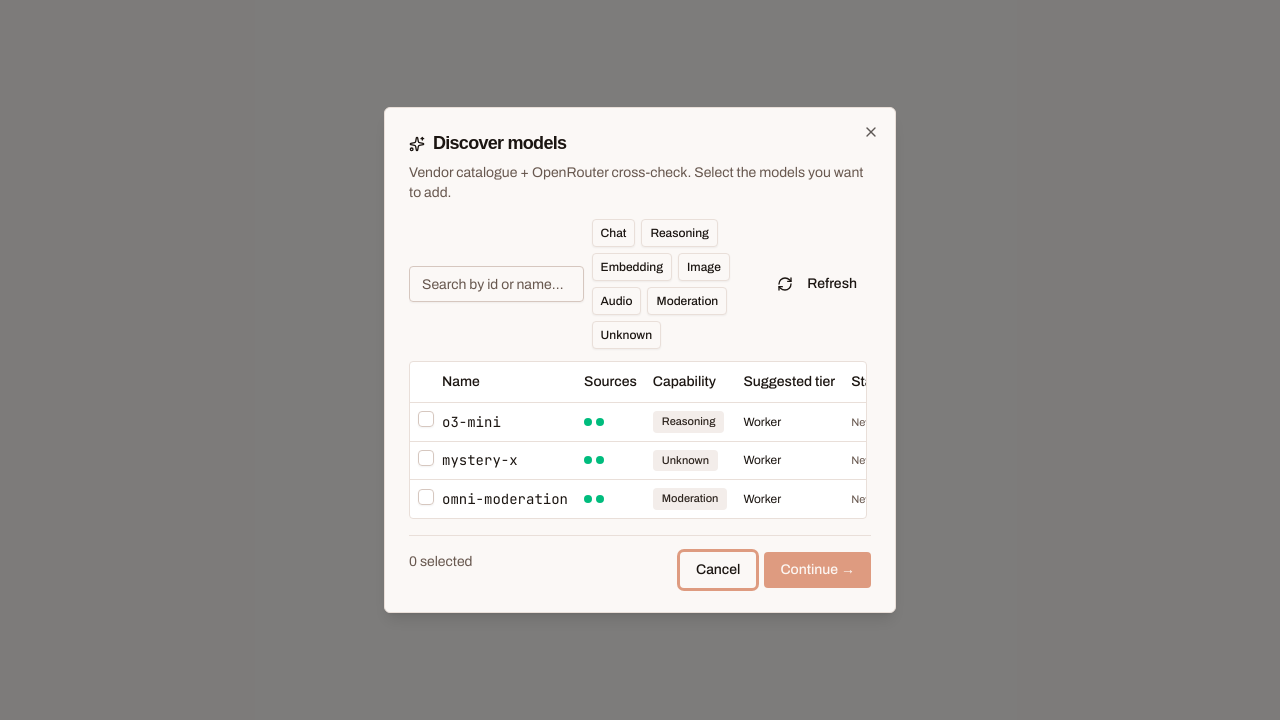
Scenario: DiscoverModelsDialog › Step 2 — capability filter chips › Reasoning and Unknown chips filter independently (regression for the old Other lump)
Expected: the text "o3-mini" is shown, x1=442 y1=413 x2=501 y2=431
// Reasoning chip narrows to the reasoning row only.
Step 1. Click the button "Reasoning" → {"x": 680, "y": 233}, box x1=641 y1=219 x2=718 y2=247
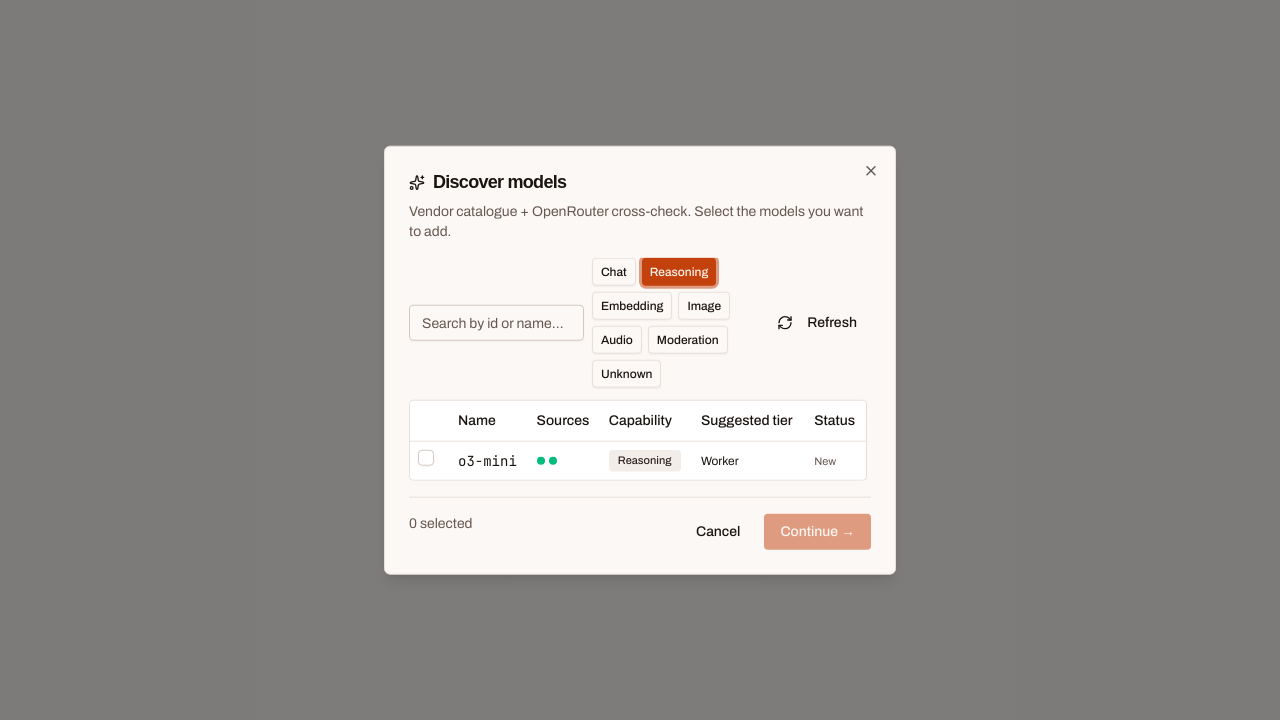
Expected: the text "o3-mini" is shown, x1=458 y1=450 x2=521 y2=470
Result: the text "mystery-x" is gone
Result: the text "omni-moderation" is gone
// Switch to Unknown — only the unclassified row shows.
Step 2. Click the button "Reasoning" → {"x": 679, "y": 272}, box x1=642 y1=258 x2=716 y2=286
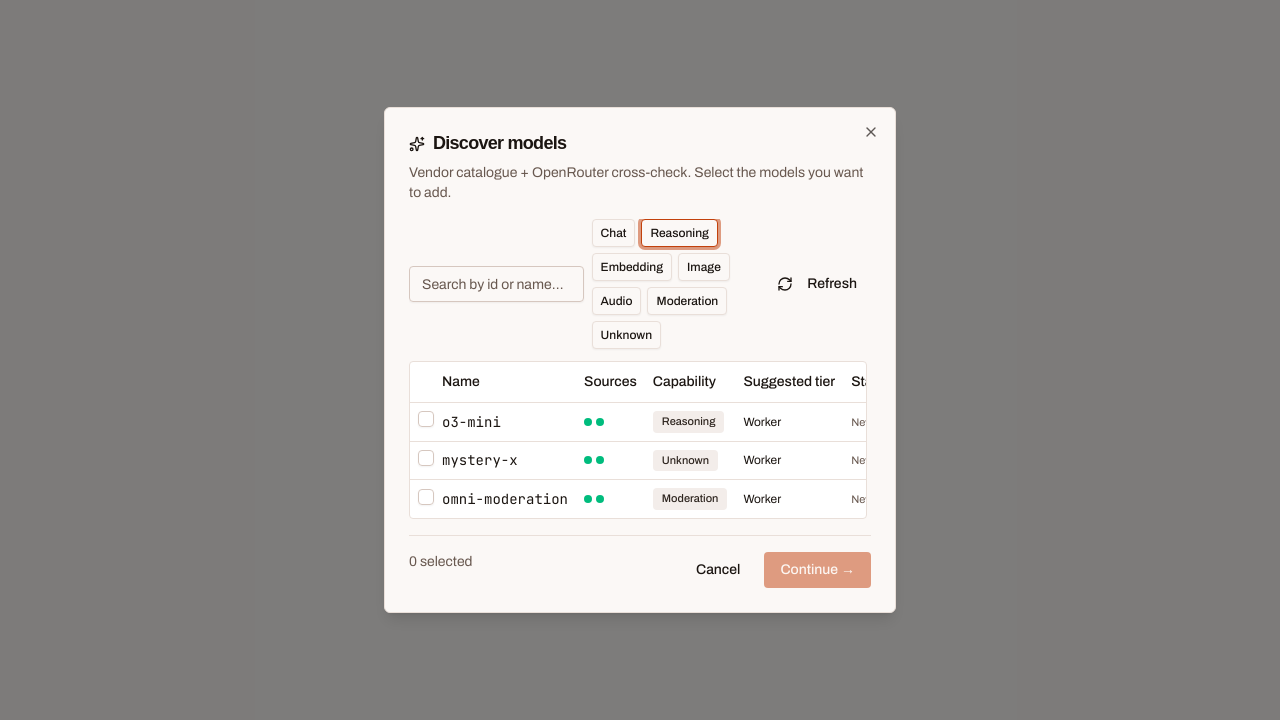
Step 3. Click the button "Unknown" → {"x": 626, "y": 335}, box x1=592 y1=321 x2=661 y2=349
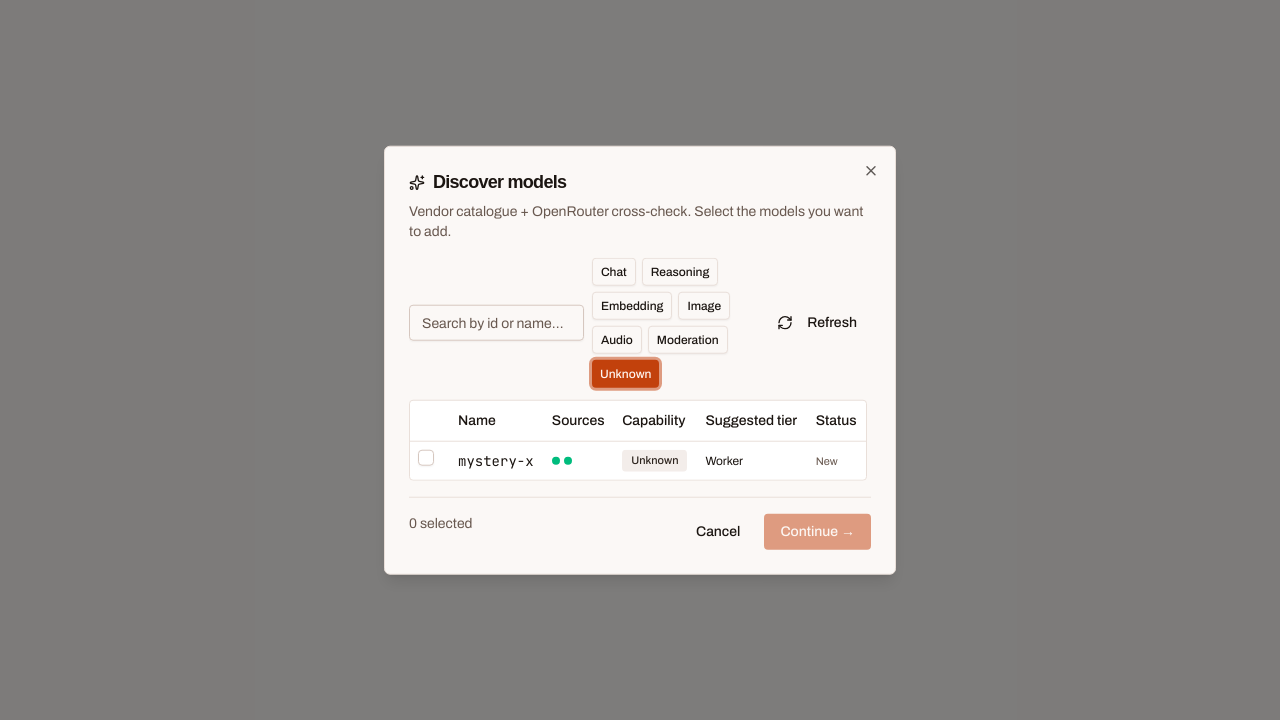
Result: the text "mystery-x" is shown at x1=458 y1=450 x2=536 y2=470
Result: the text "o3-mini" is gone
